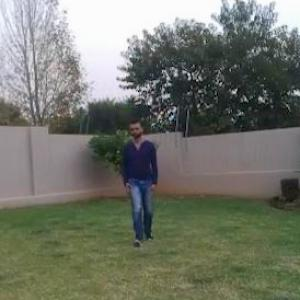follow: (122, 113, 162, 250)
